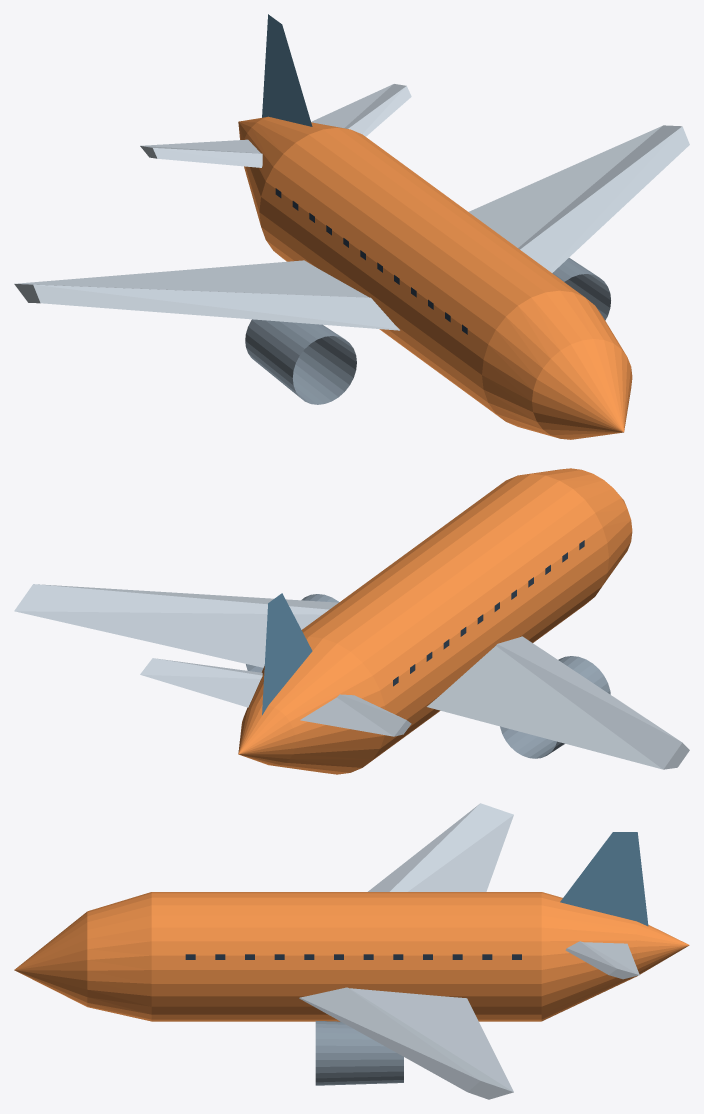
Rendered from fuselage.glb.
3 views of the same model, one above another, from view 1: azimuth 30°, elevation 25°; view 2: azimuth 150°, elevation 25°; view 3: azimuth 270°, elevation 25° (orthographic). The views are drawn at different scales.
Bounding box in the file's own units: 9.3 × 3.07 × 9.57.
